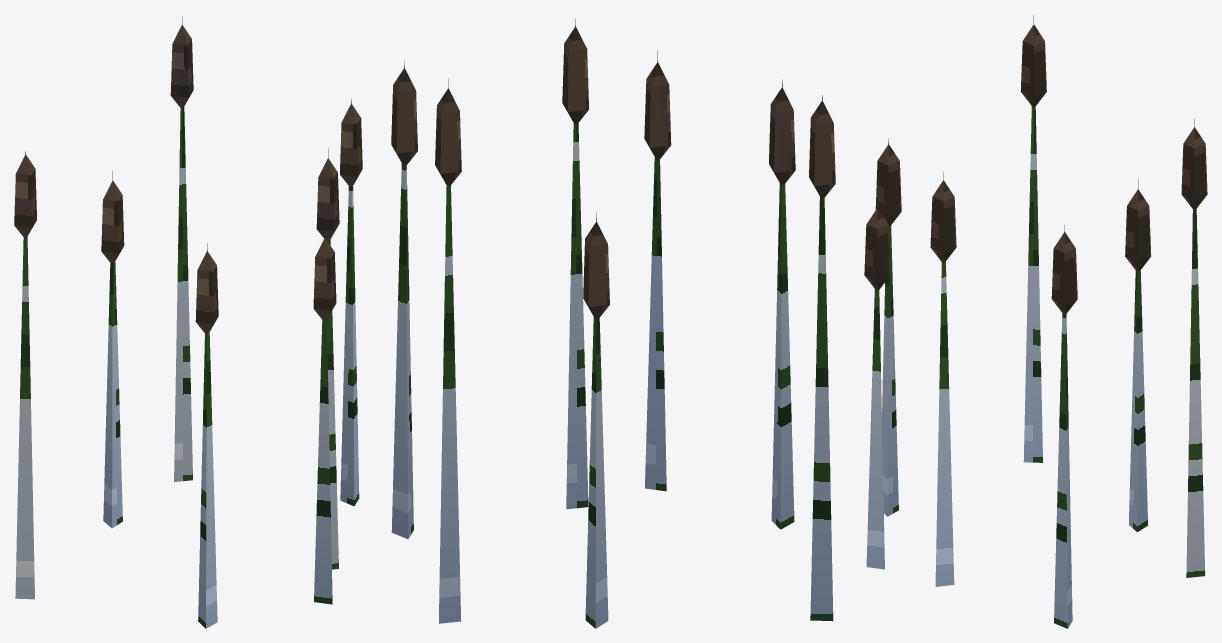
The model's file is mnat.flowers__reeds.glb.
3 renders of one model, left to right at view 1: azimuth 30°, elevation 25°; view 2: azimuth 150°, elevation 25°; view 3: azimuth 270°, elevation 25°, orthographic. The views are drawn at different scales.
Visible parts, largest first — view 1: kit_plants, kit_heads; view 2: kit_plants, kit_heads; view 3: kit_plants, kit_heads.
Part boxes in pixels (bbox=[...]): kit_plants: bbox=[15, 17, 359, 628]; kit_heads: bbox=[14, 24, 362, 334]; kit_plants: bbox=[391, 19, 833, 628]; kit_heads: bbox=[391, 26, 835, 319]; kit_plants: bbox=[866, 15, 1205, 628]; kit_heads: bbox=[864, 24, 1207, 314].
Bounding box in the file's own units: 1.11 × 1.35 × 0.9196.
Materials: 2 (2 with a texture image).
